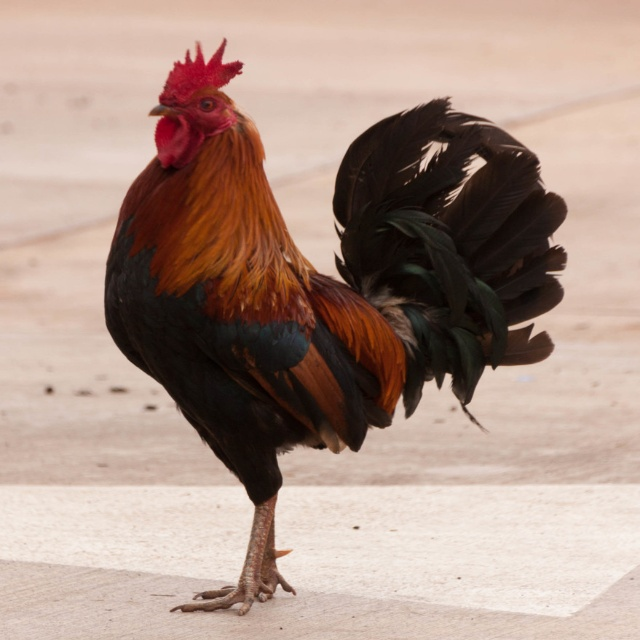Chicken: (101, 36, 567, 613)
